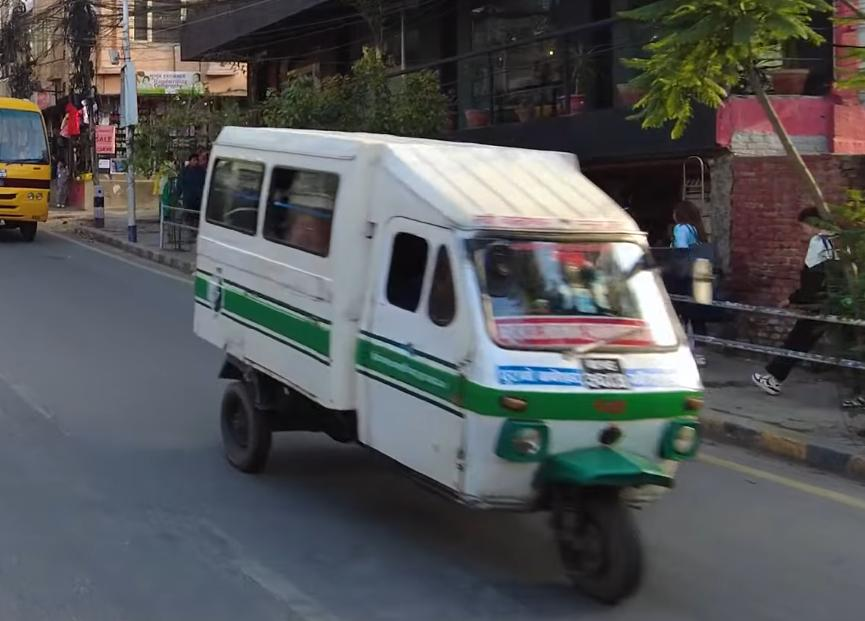school_bus: (0, 95, 58, 250)
tempo: (188, 123, 713, 611)
